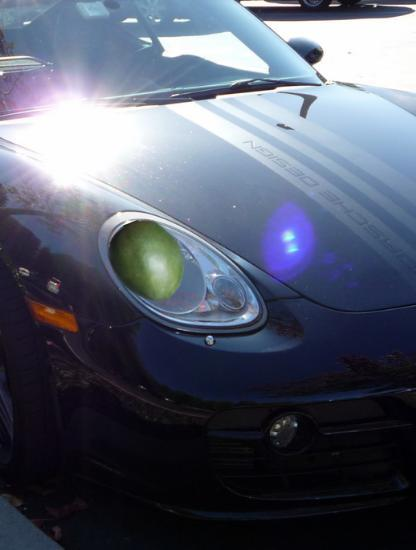Mango: (104, 219, 191, 306)
